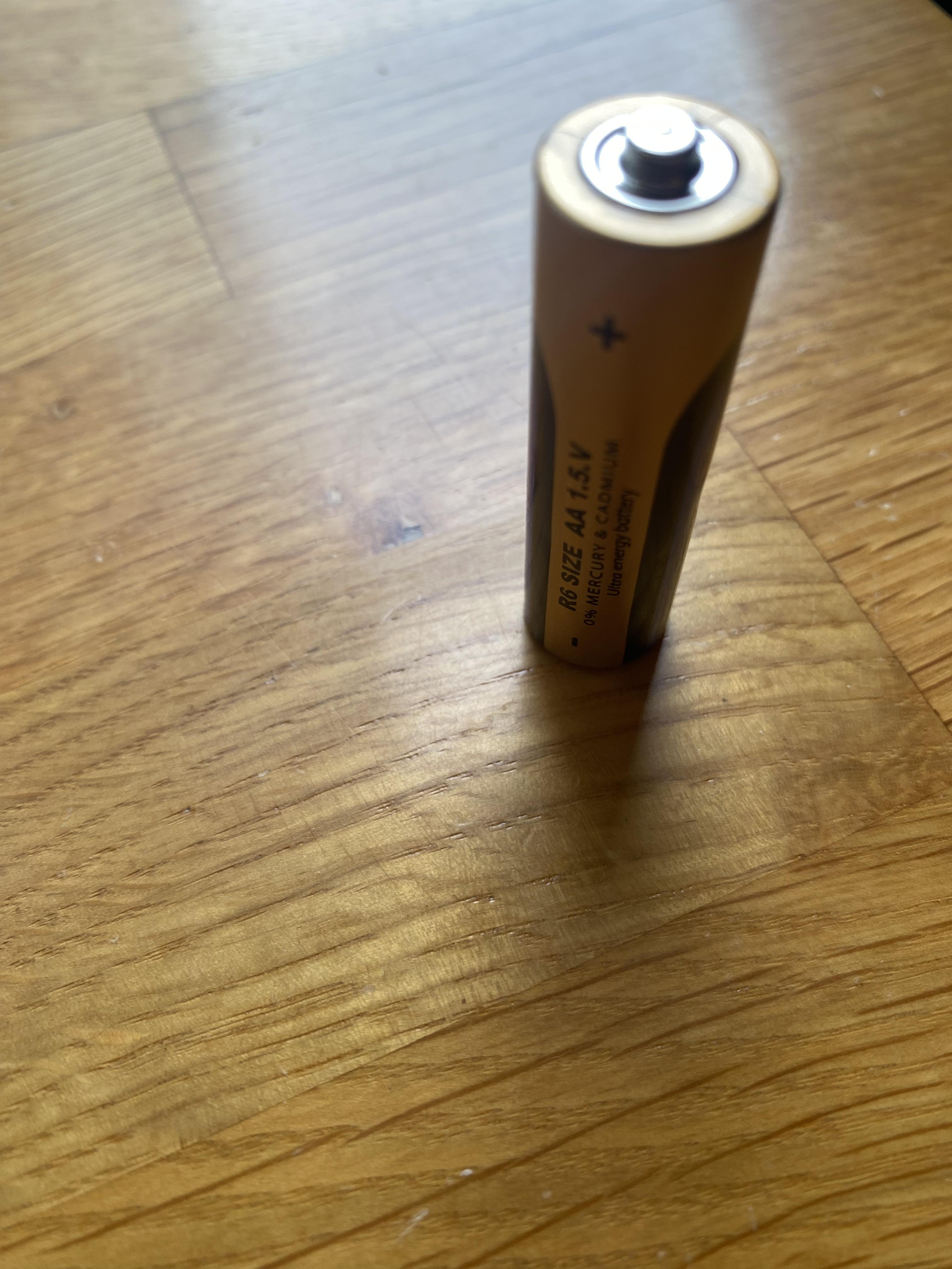AA: (522, 91, 782, 670)
